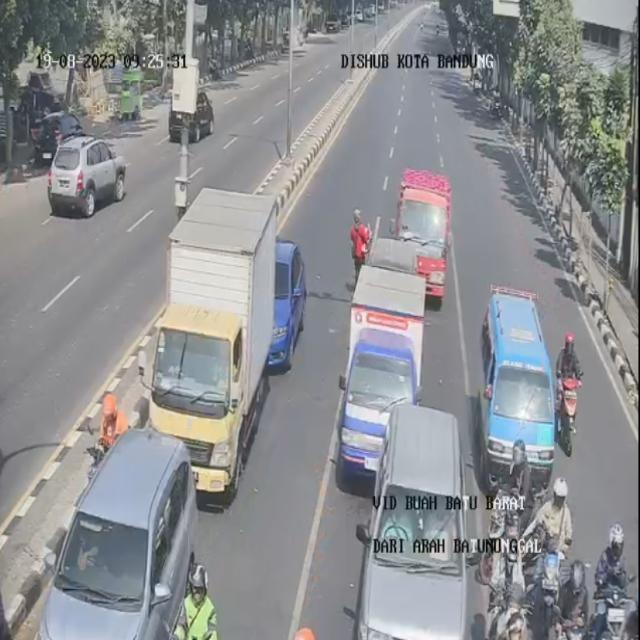cars: (41, 433, 198, 640), (360, 408, 481, 640), (481, 284, 560, 494), (266, 237, 307, 372)
motorcycle: (528, 478, 576, 640), (598, 514, 638, 638), (488, 442, 532, 547), (542, 540, 588, 638), (550, 328, 583, 452), (481, 540, 518, 640), (93, 386, 123, 466), (590, 599, 633, 640), (350, 208, 373, 278), (491, 611, 536, 640)
truck: (153, 191, 283, 499), (343, 231, 432, 485), (399, 168, 454, 304)
